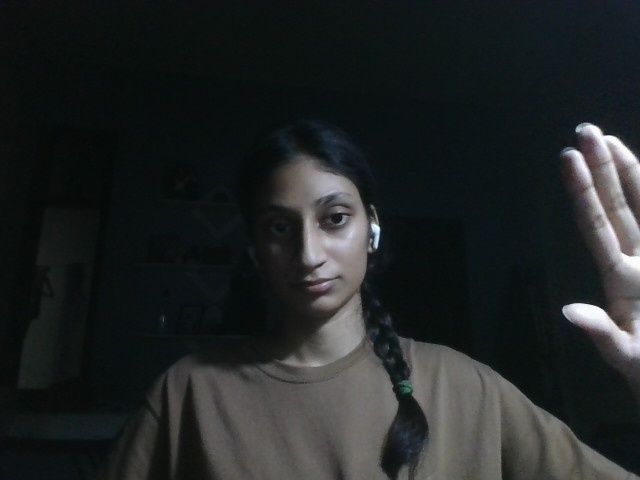hello: (556, 121, 640, 377)
